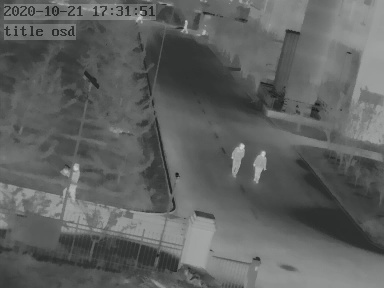person: (251, 147, 267, 183), (65, 162, 79, 202), (229, 141, 244, 178), (183, 19, 191, 37), (136, 10, 144, 25)
